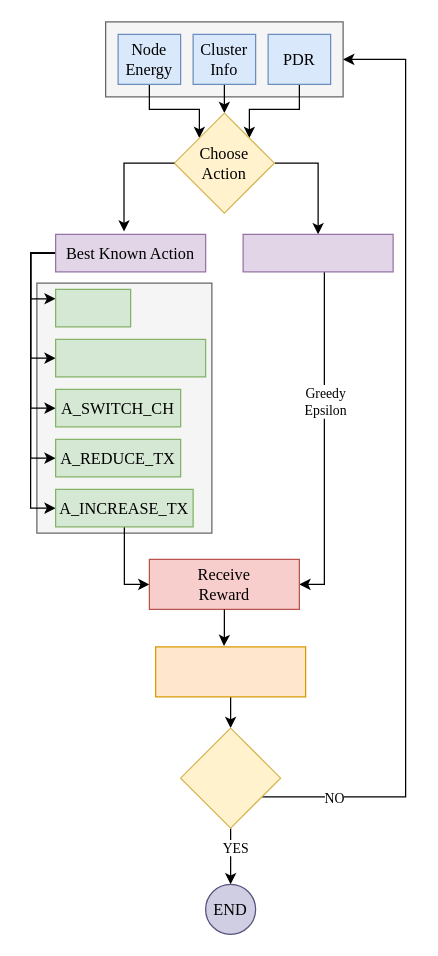
Image size: 438x956. Some labels were removed from this diagram. Each missing label, with the box of its shape:
A_NOOP: (54, 288, 131, 327)
A_REASSIGN_FEW: (54, 338, 206, 377)
Take Random Action: (242, 233, 393, 272)
Terminal State: (179, 727, 281, 828)
Update Q-Table: (154, 646, 306, 697)
